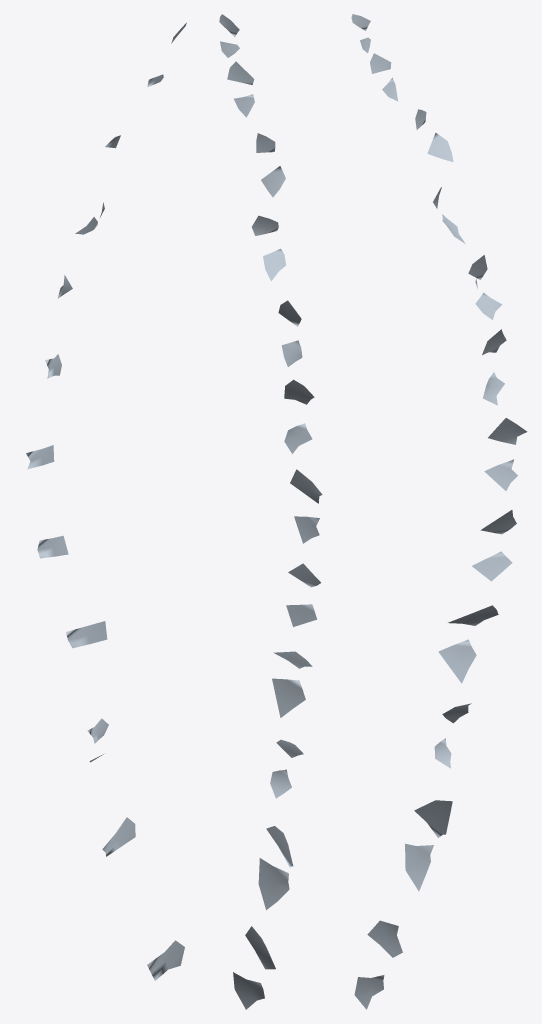
The model's file is radiate-ligament-of-head-of-rib-r.glb.
3 views of the same model, side by side, from view 1: azimuth 90°, elevation 25°; view 2: azimuth 210°, elevation 25°; view 3: azimuth 270°, elevation 25° (orthographic).
Parts seen in each view (by area): view 1: Radiate ligament of head of rib.r; view 2: Radiate ligament of head of rib.r; view 3: Radiate ligament of head of rib.r.
Boxes of the visible parts, x1,y1,x2,y2 form: Radiate ligament of head of rib.r: (26, 22, 186, 980); Radiate ligament of head of rib.r: (219, 14, 322, 1009); Radiate ligament of head of rib.r: (351, 14, 527, 1009).
Size of the model in its own units: 0.0126 by 0.3048 by 0.0484.
